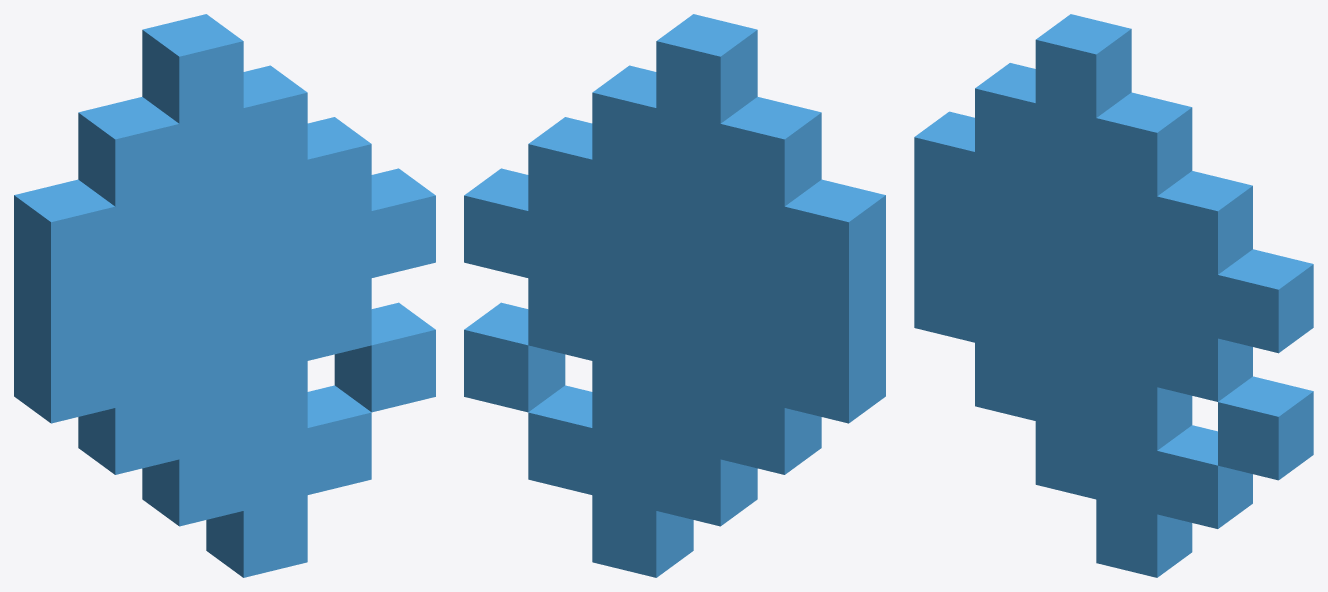
The model's file is Book-Spiritual-Blue.vox.obj.
3 views of the same model, side by side, from view 1: azimuth 30°, elevation 25°; view 2: azimuth 150°, elevation 25°; view 3: azimuth 330°, elevation 25° (orthographic). The views are drawn at different scales.
Bounding box in the file's own units: 0.6 × 0.8 × 0.1.
1 material, 1 textured.
